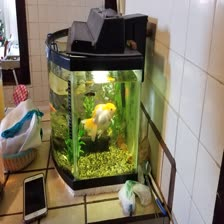Cuezo: (81, 100, 118, 139)
